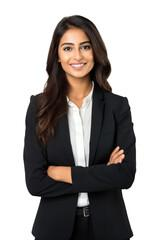Human: (22, 14, 147, 240)
